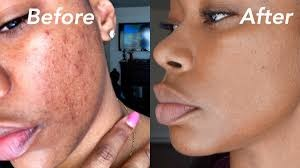Melasma: (81, 15, 116, 39)
